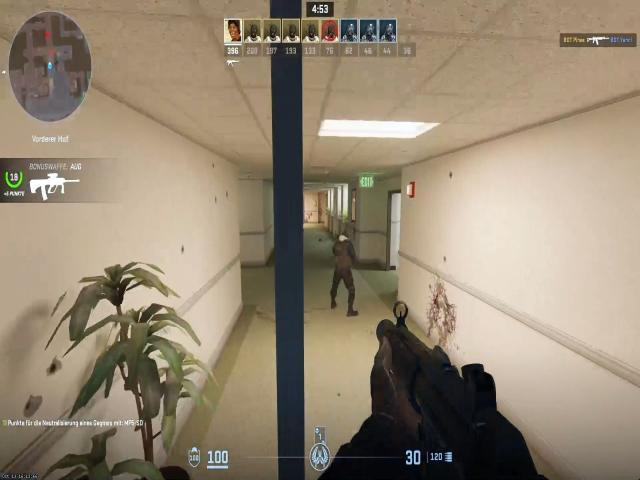CT: (330, 229, 355, 287)
CT-Head: (337, 228, 350, 250)
